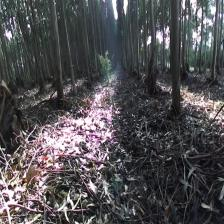trunk: (170, 3, 182, 115), (50, 5, 64, 98), (62, 17, 78, 95), (148, 4, 157, 95), (210, 4, 220, 79)
